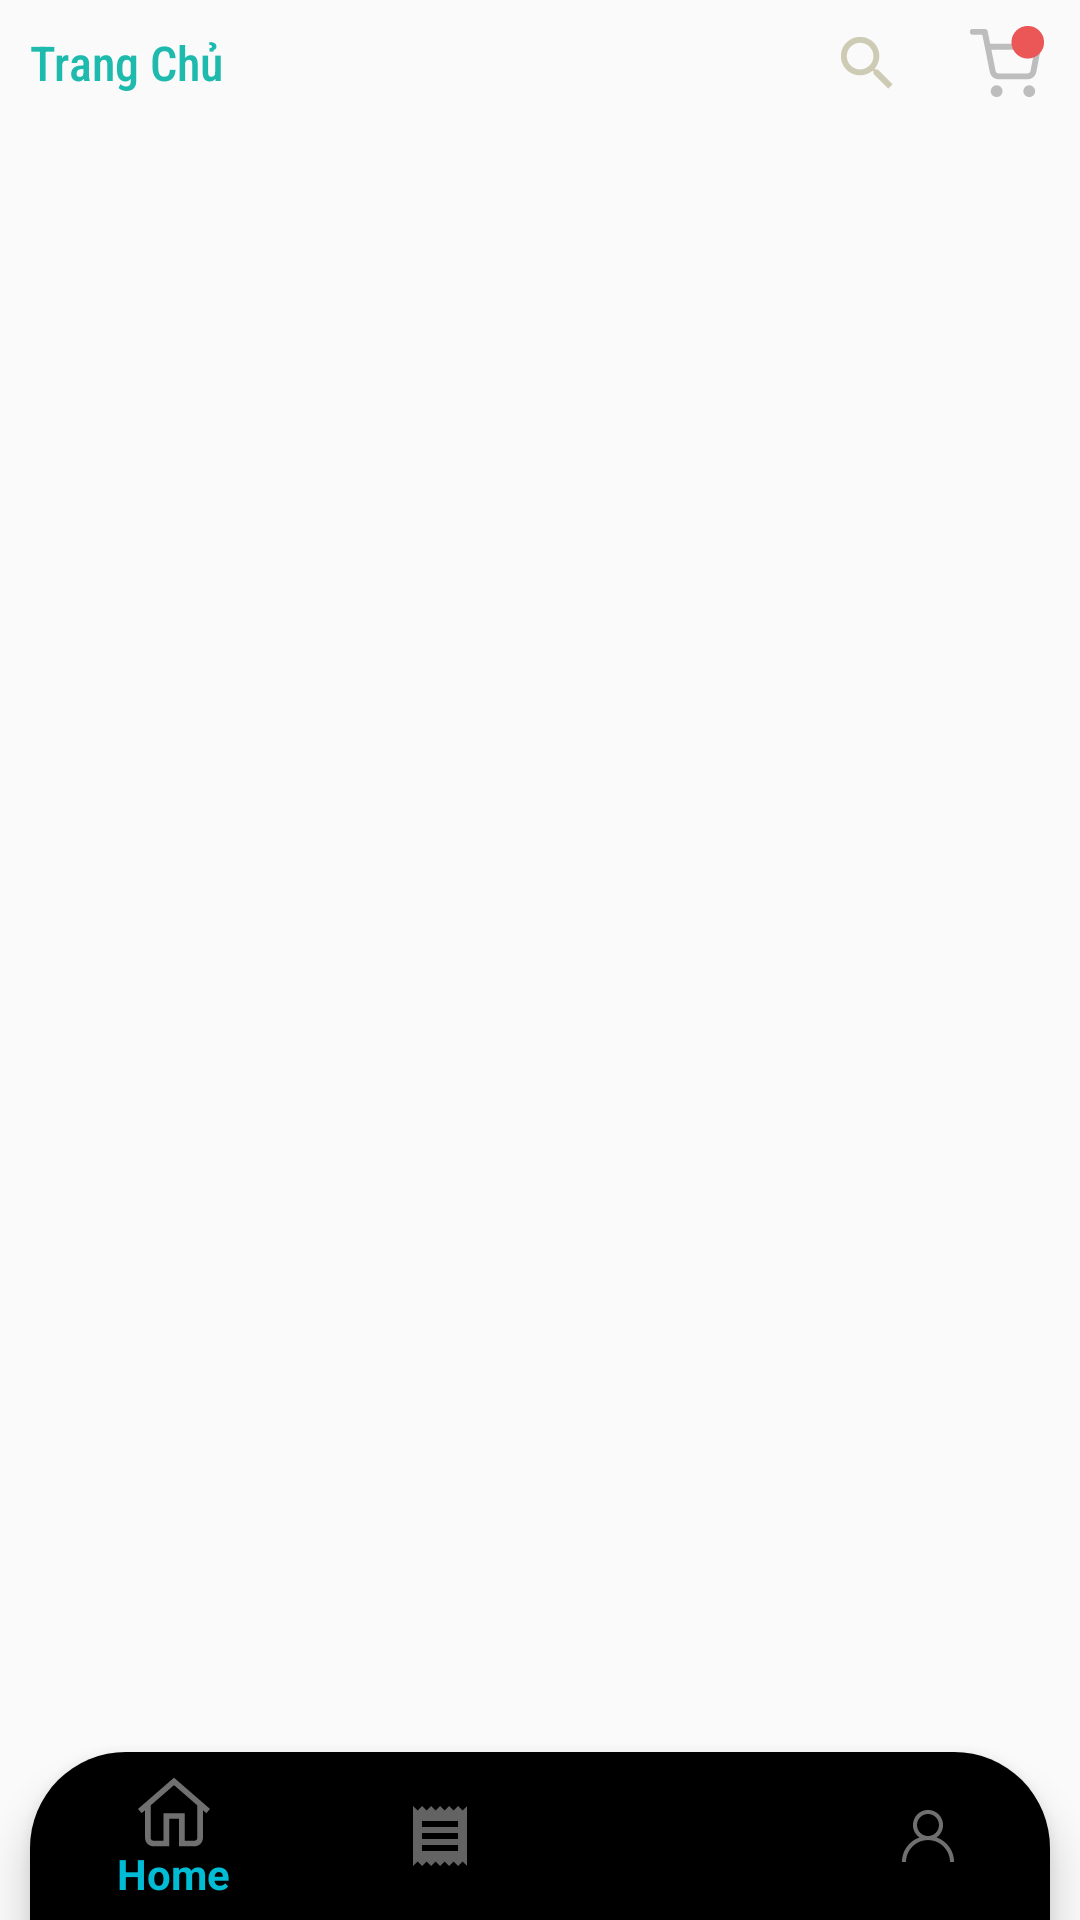

Icons on this 1080w x 1920h Android screen, each with the point to tap as point (x, y):
search: point (866, 62)
